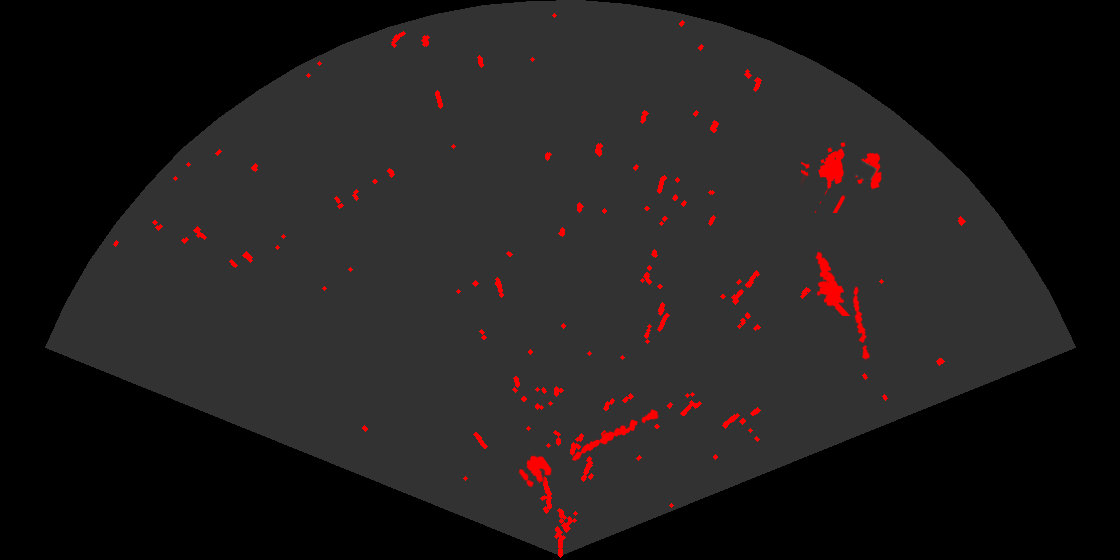ball: (517, 454, 553, 489)
cage: (801, 141, 883, 213)
chain: (570, 408, 660, 462), (851, 284, 871, 362)
frogman: (814, 250, 852, 316)
